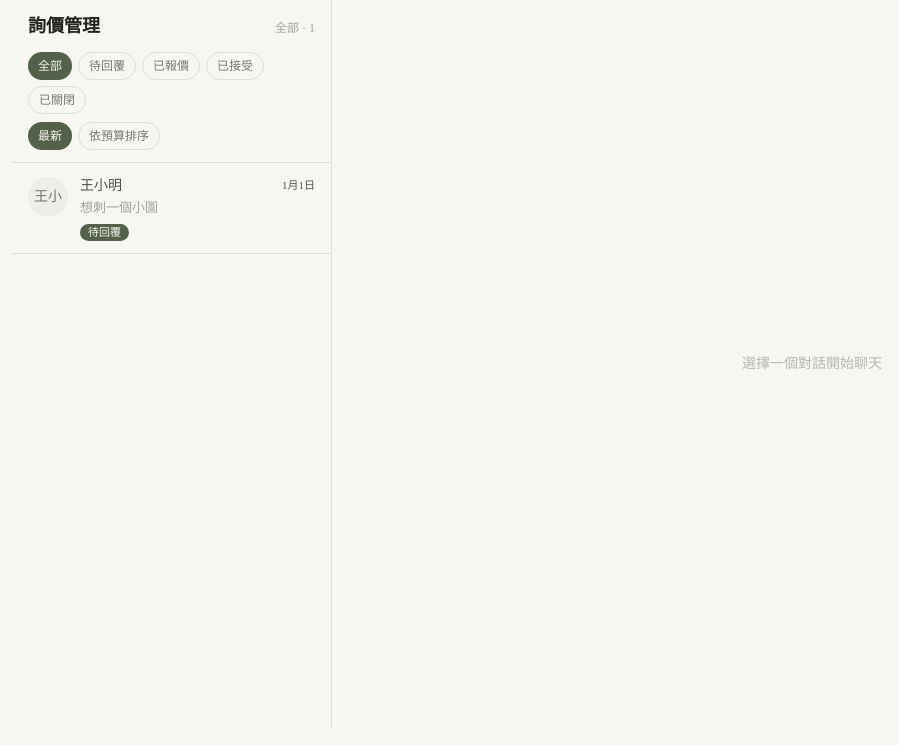
Scenario: Artist inquiries page — status filters › shows status-specific empty-state copy for an empty filter
Expected: the text "王小明" is shown, left=80, top=175, right=122, bottom=196
Step 1. Click the button "已關閉" → (57, 100), box left=28, top=86, right=86, bottom=114
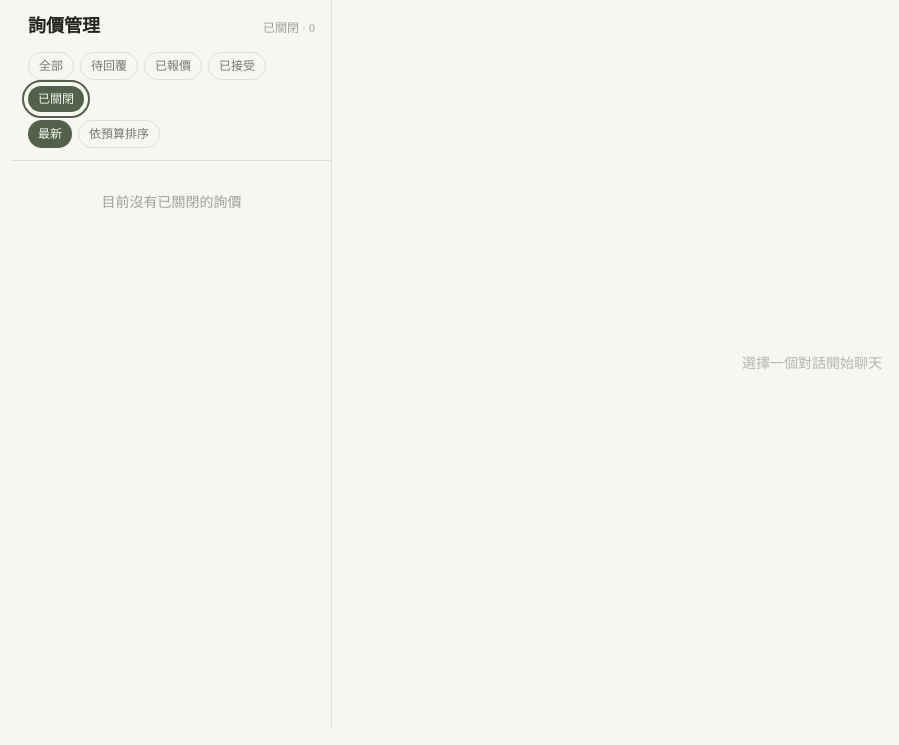
Result: the text "目前沒有已關閉的詢價" is shown at left=102, top=195, right=242, bottom=210
